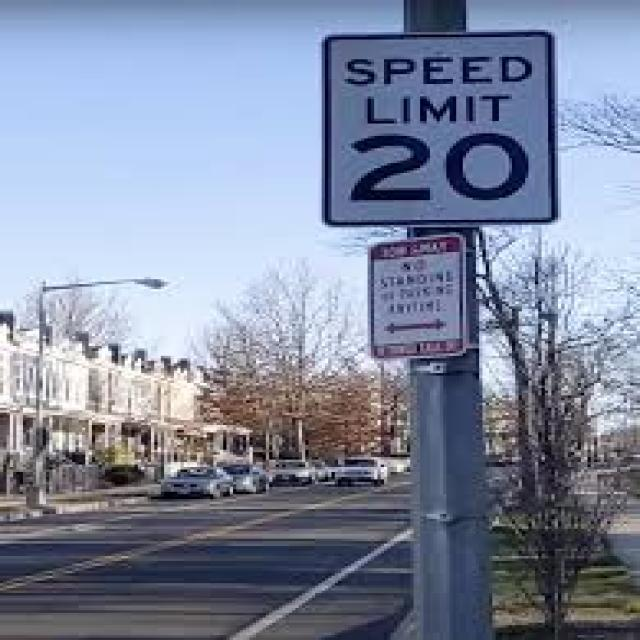speedLimit20: (320, 31, 556, 231)
